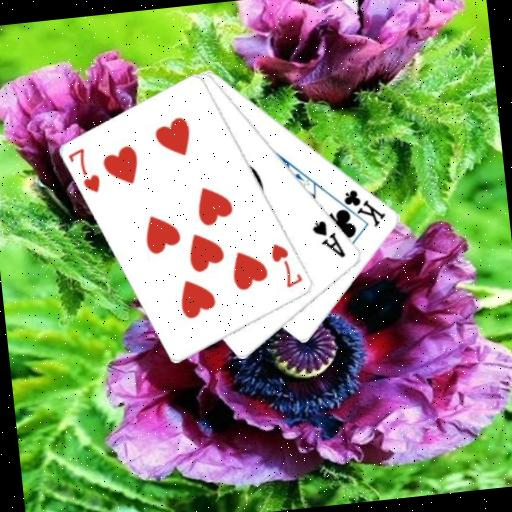7H: (267, 238, 306, 292), (65, 143, 104, 197)
AS: (309, 215, 348, 262)
KC: (331, 184, 389, 234)
